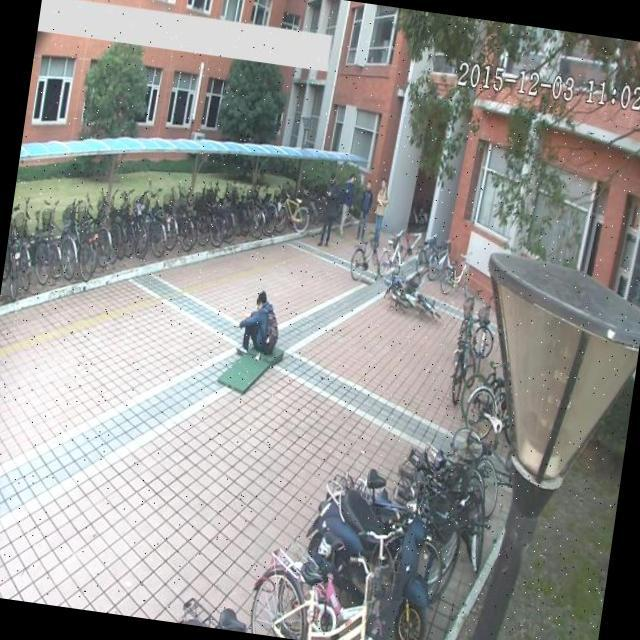person: (228, 279, 282, 365), (316, 168, 344, 245), (352, 176, 380, 250), (336, 171, 364, 243), (368, 176, 393, 254)
